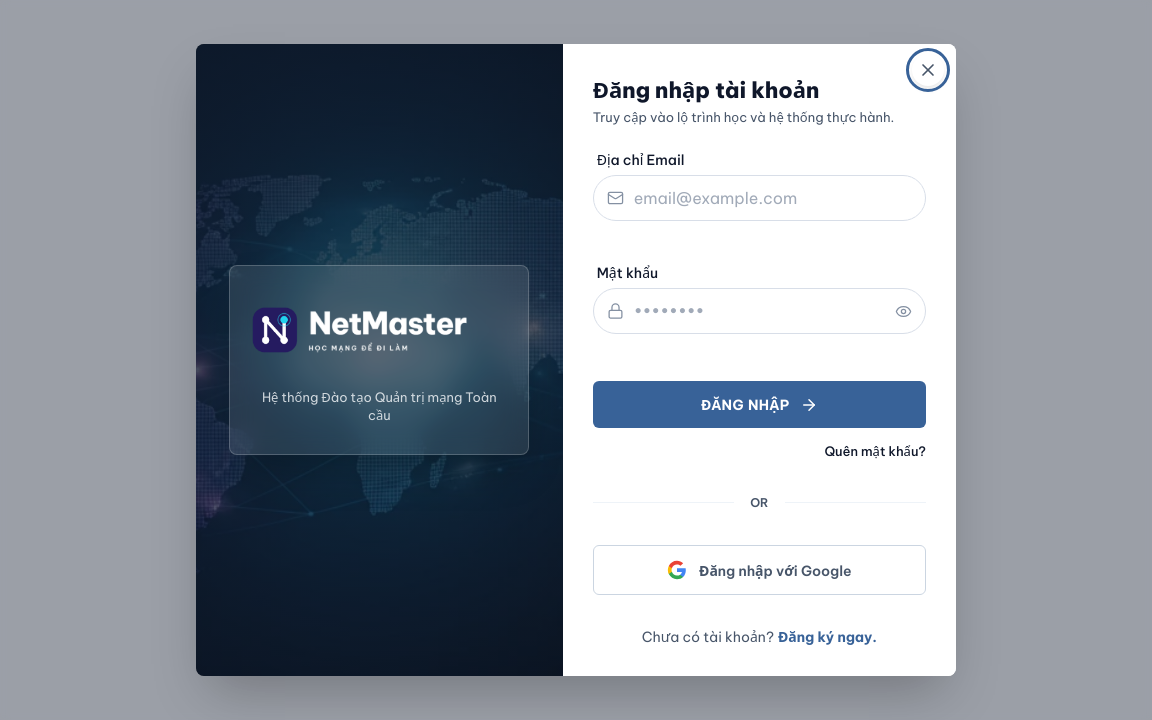
Test case: keeps only email/password inputs and an accessible reveal button without changing values
Type " unchanged password " into the password field labelled "Mật khẩu".
click(759, 311); type(" unchanged password ")  # box [594,289,925,333]
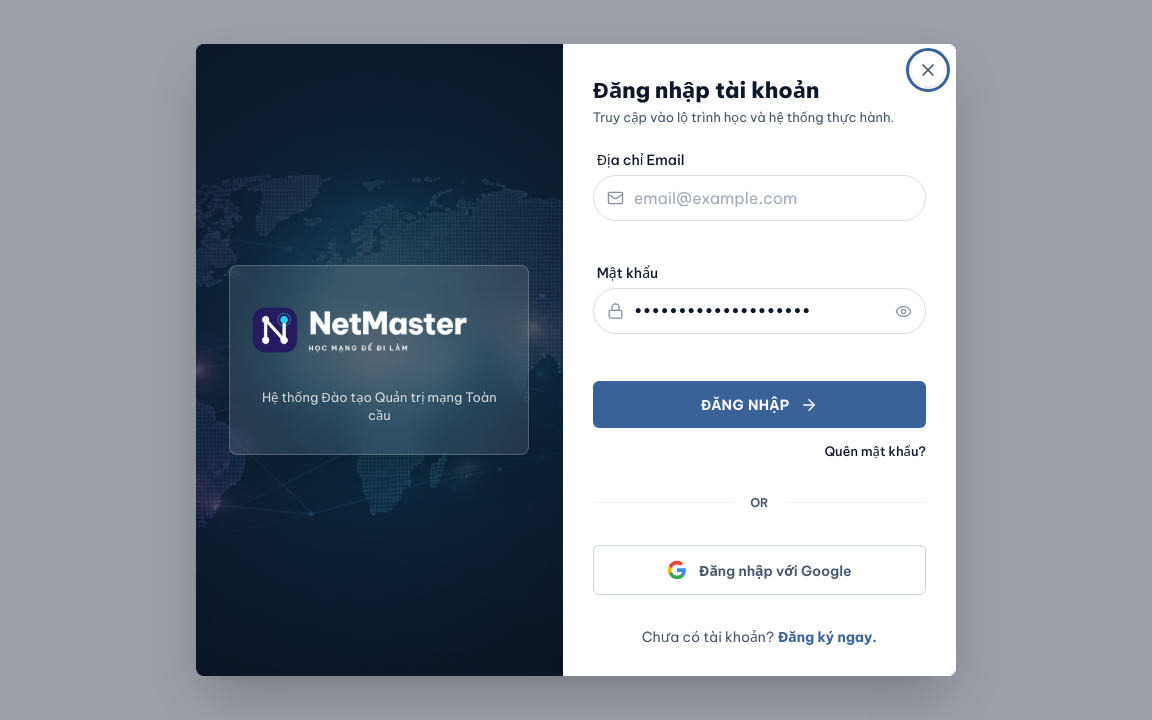
Click the button named "Hiện mật khẩu".
click(903, 311)  # box [887,295,919,327]
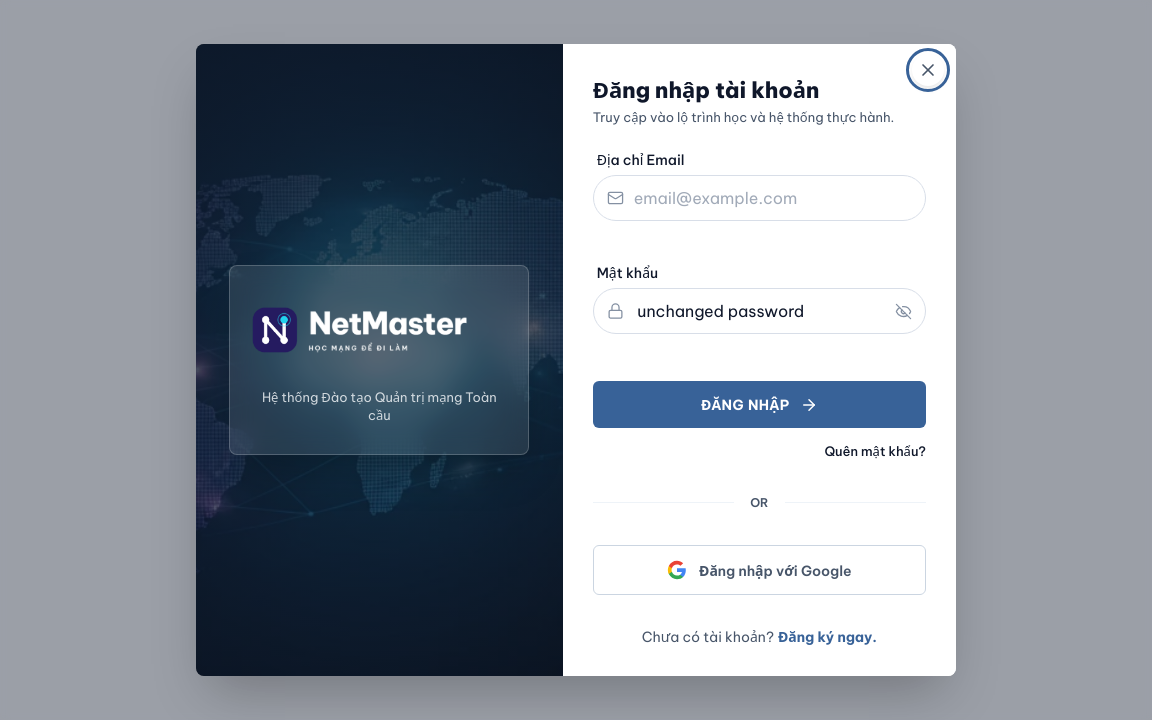
Expected: the field labelled "Mật khẩu" shows its text, [594,289,925,333]
Click the button named "Ẩn mật khẩu".
click(903, 311)  # box [887,295,919,327]
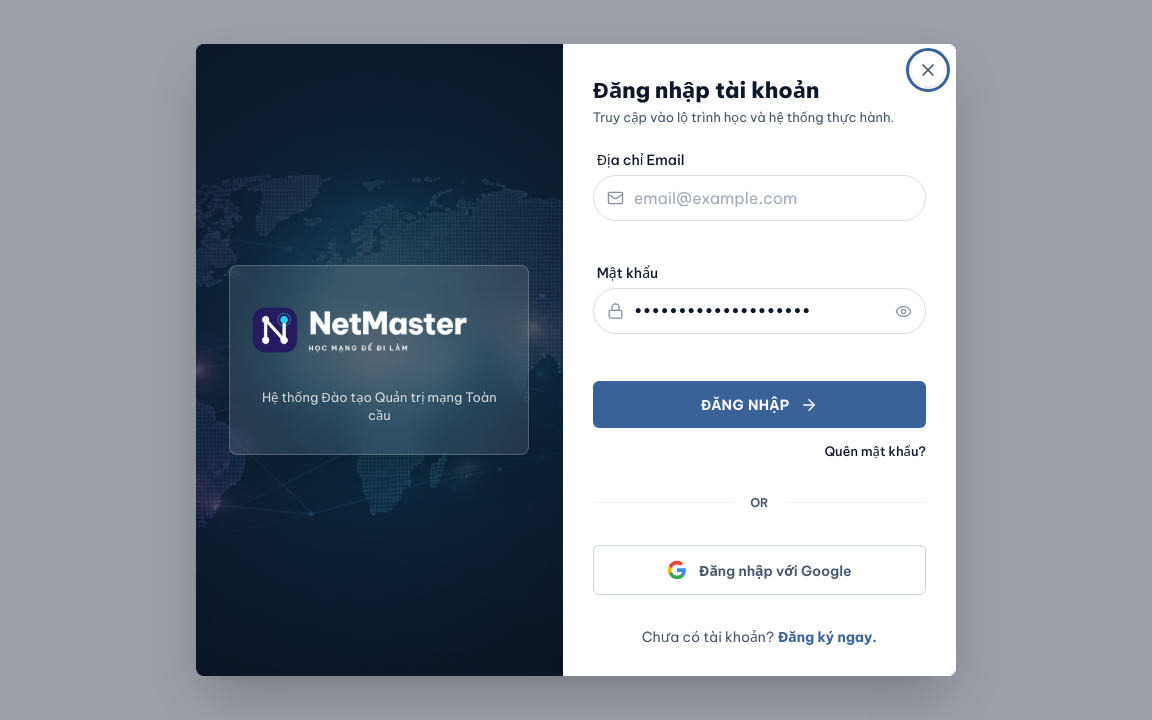
Expected: the password field labelled "Mật khẩu" hides its text, [594,289,925,333]
